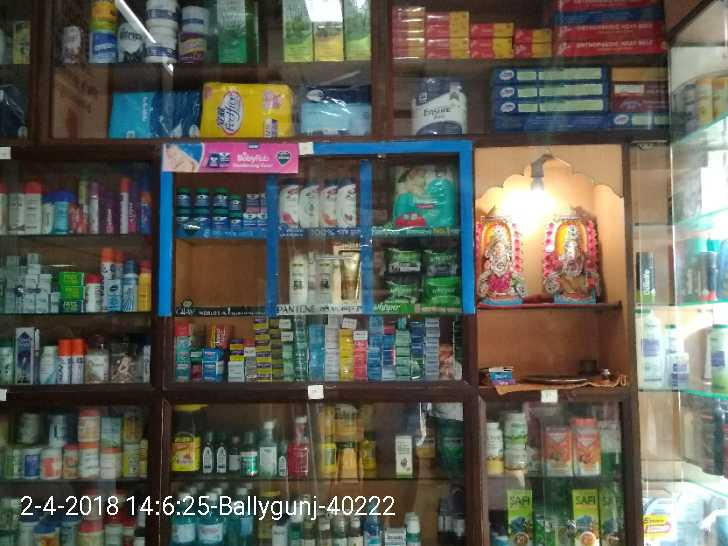vicks: (174, 182, 269, 230)
